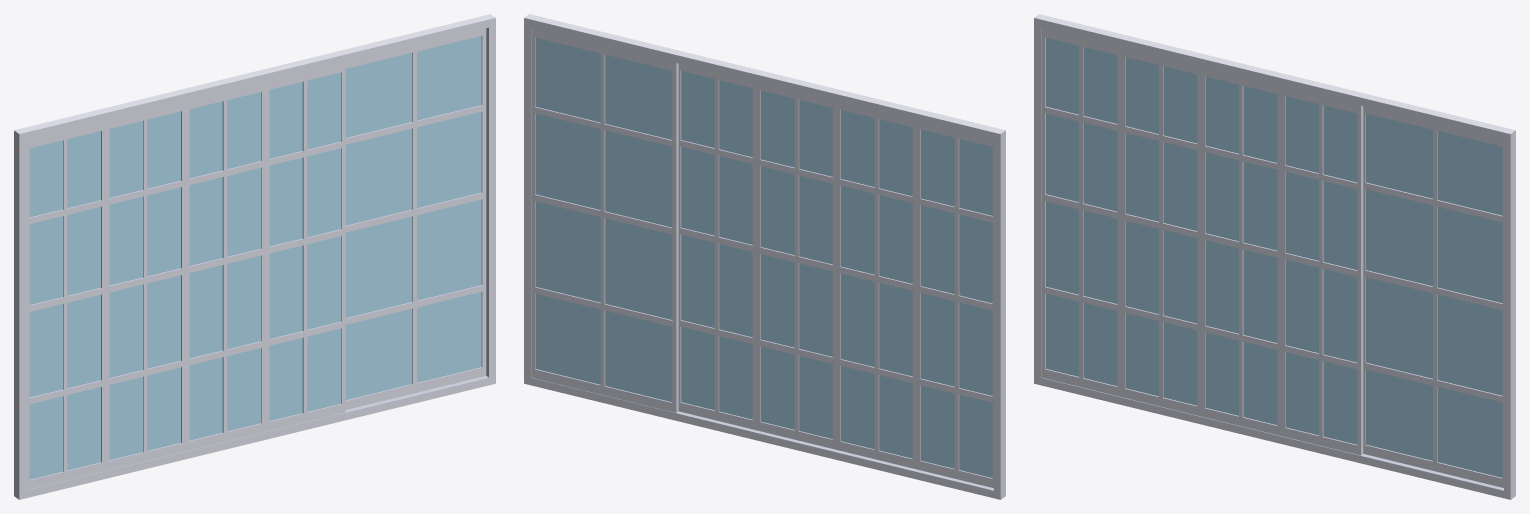
Rendered from SM_Window_300_220.fbx.
The picture shows the model from 3 angles, left to right: view 1: azimuth 30°, elevation 25°; view 2: azimuth 150°, elevation 25°; view 3: azimuth 330°, elevation 25°; orthographic projection.
Parts seen in each view (by area): view 1: Glass7, Glass6, Glass3, Glass5, Glass4, polySurface9, polySurface17, polySurface16, polySurface15, polySurface14, polySurface13; view 2: Glass7, Glass4, Glass5, Glass3, Glass6, polySurface9, polySurface17, polySurface14, polySurface15, polySurface16, polySurface13; view 3: Glass7, Glass4, Glass5, Glass6, Glass3, polySurface9, polySurface16, polySurface17, polySurface15, polySurface14, polySurface13.
Boxes of the visible parts, x1,y1,x2,y2 form: Glass7: [345, 36, 481, 399]; Glass6: [269, 72, 340, 420]; Glass3: [29, 131, 100, 479]; Glass5: [189, 92, 260, 440]; Glass4: [109, 111, 180, 459]; polySurface9: [14, 14, 495, 499]; polySurface17: [345, 28, 486, 409]; polySurface16: [265, 62, 345, 431]; polySurface15: [185, 82, 265, 451]; polySurface14: [105, 101, 185, 470]; polySurface13: [26, 121, 105, 490]; Glass7: [535, 38, 672, 401]; Glass4: [841, 110, 912, 458]; Glass5: [761, 90, 832, 438]; Glass3: [921, 129, 992, 477]; Glass6: [681, 71, 752, 419]; polySurface9: [524, 14, 1005, 499]; polySurface17: [531, 27, 678, 412]; polySurface14: [836, 102, 916, 468]; polySurface15: [756, 83, 836, 449]; polySurface16: [678, 64, 756, 430]; polySurface13: [916, 121, 993, 488]; Glass7: [1366, 113, 1502, 477]; Glass4: [1125, 57, 1197, 405]; Glass5: [1205, 76, 1277, 424]; Glass6: [1285, 96, 1357, 444]; Glass3: [1046, 37, 1117, 385]; polySurface9: [1034, 14, 1515, 499]; polySurface16: [1281, 86, 1363, 455]; polySurface17: [1363, 106, 1503, 487]; polySurface15: [1201, 66, 1280, 435]; polySurface14: [1121, 47, 1200, 416]; polySurface13: [1041, 27, 1120, 396].
Size of the model in its own units: 3 by 2.2 by 0.058.
